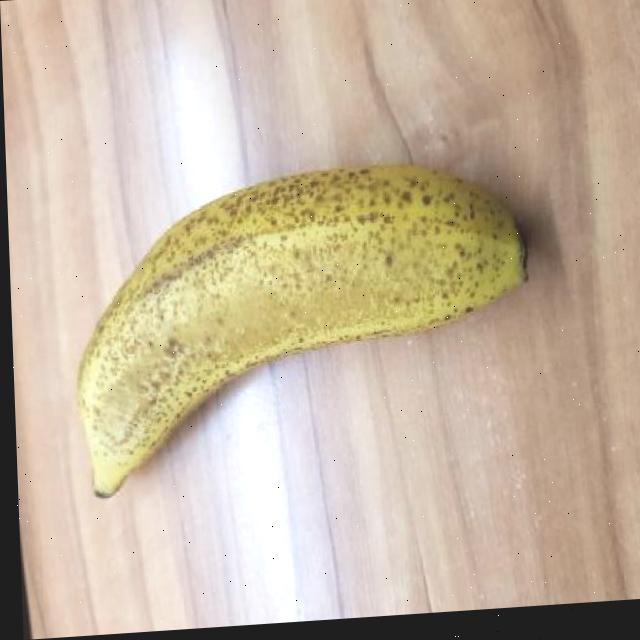banana: (60, 141, 537, 498)
